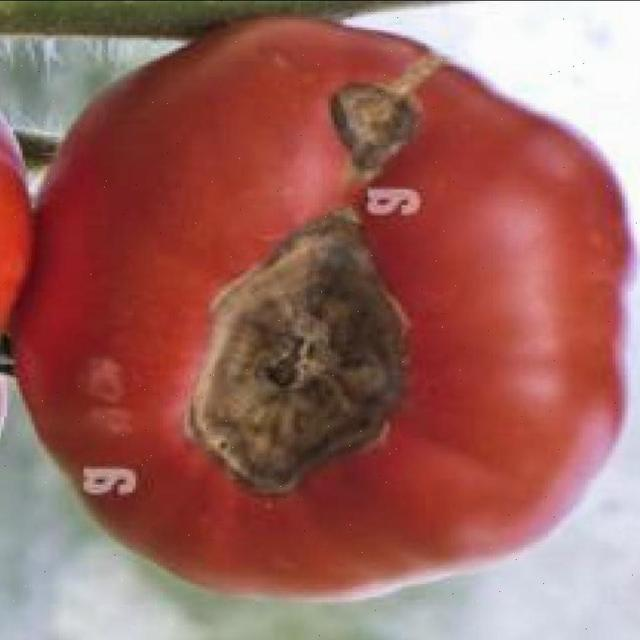Blossom End Rot Fruit: (103, 69, 259, 236)
